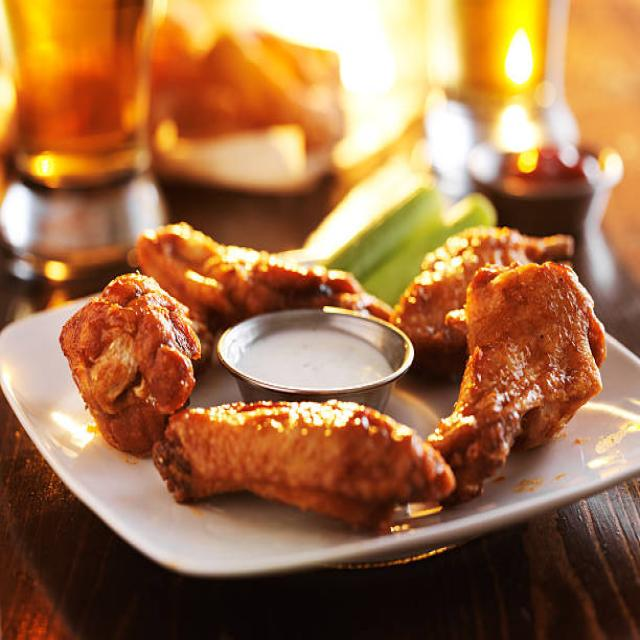Frango: (62, 216, 608, 524)
